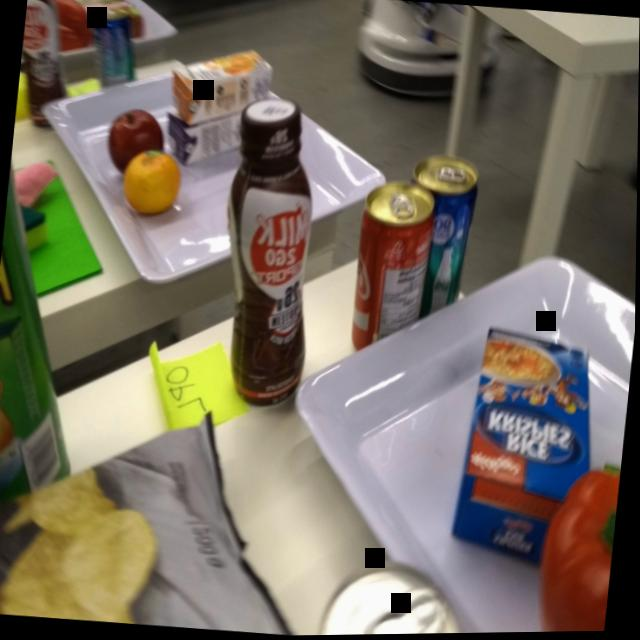cereal: (442, 320, 602, 576)
chocolate_drink: (205, 91, 335, 414)
coke: (345, 178, 439, 362)
orange: (118, 143, 187, 223)
